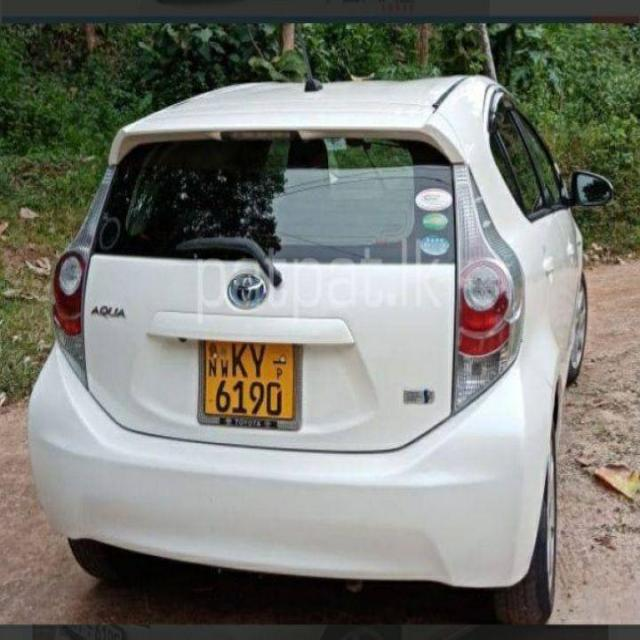license-plate: (205, 339, 292, 417)
